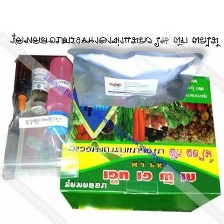book: (53, 73, 223, 215)
insecticide: (66, 47, 209, 109), (44, 56, 73, 138), (26, 55, 49, 115), (13, 54, 31, 110)
